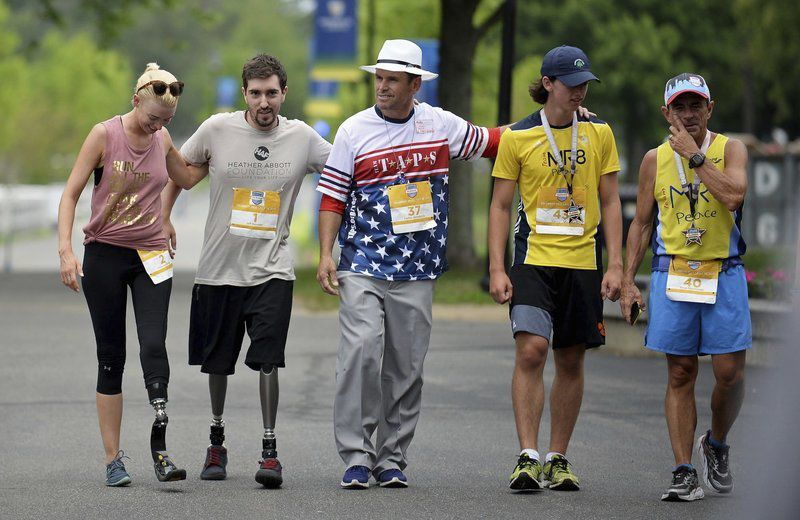Person: (56, 28, 208, 520), (492, 28, 620, 520), (332, 24, 456, 520), (196, 44, 304, 520), (640, 80, 752, 488)
